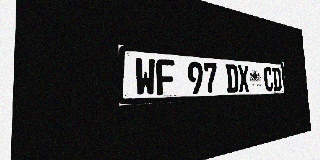7: (203, 62, 218, 94)
9: (187, 61, 204, 94)
C: (263, 67, 274, 91)
D: (226, 64, 239, 93), (272, 67, 282, 91)
F: (156, 59, 175, 95)
W: (134, 57, 156, 96)
X: (237, 65, 250, 92)
